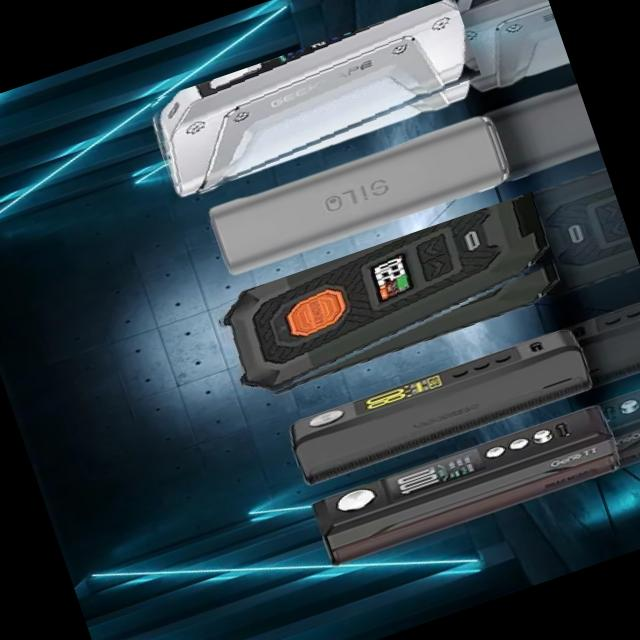Hazard: (208, 190, 567, 406), (140, 0, 487, 202)
